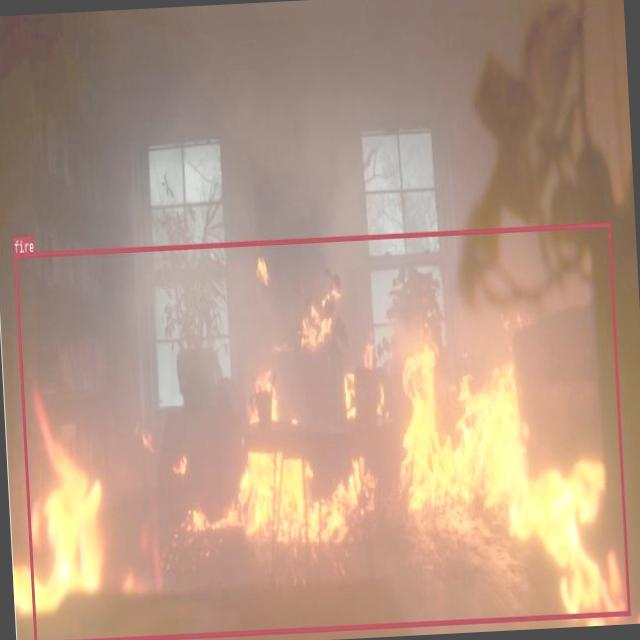fire: (13, 221, 630, 640)
